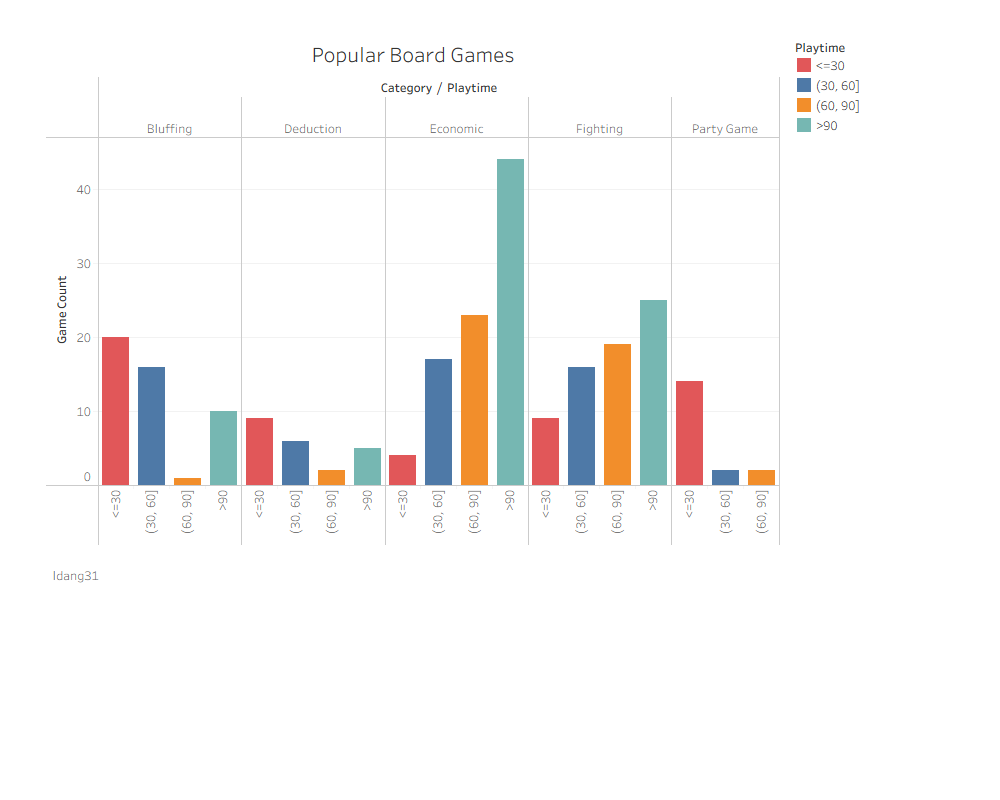

Layout of this report page (visuals, bound fields, positions):
{"tool":"tableau","page":{"name":"grouped_barchart","canvas":[1000,800],"ordinal":0},"visuals":[{"type":"worksheet","title":"1.2","mark":"Automatic","rows":["name"],"cols":["category","playtime"],"box":[46,34,734,512]},{"type":"legend","title":"1.2","param":"[federated.1lt34r10itpzwf13ngjth0axlman].[none:playtime:nk]","box":[794,37,140,98]},{"type":"text","box":[50,560,100,30]}]}

Visuals, with their boxes in screenshot pixels (x1, y1, x2, y2), scaled from the page's 1000x800 canvas onto the 1000x800 screenshot:
"1.2" worksheet: 46, 34, 780, 546
"1.2" legend: 794, 37, 934, 135
text: 50, 560, 150, 590
